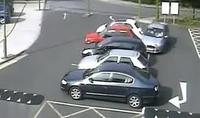car: (61, 61, 157, 107)
